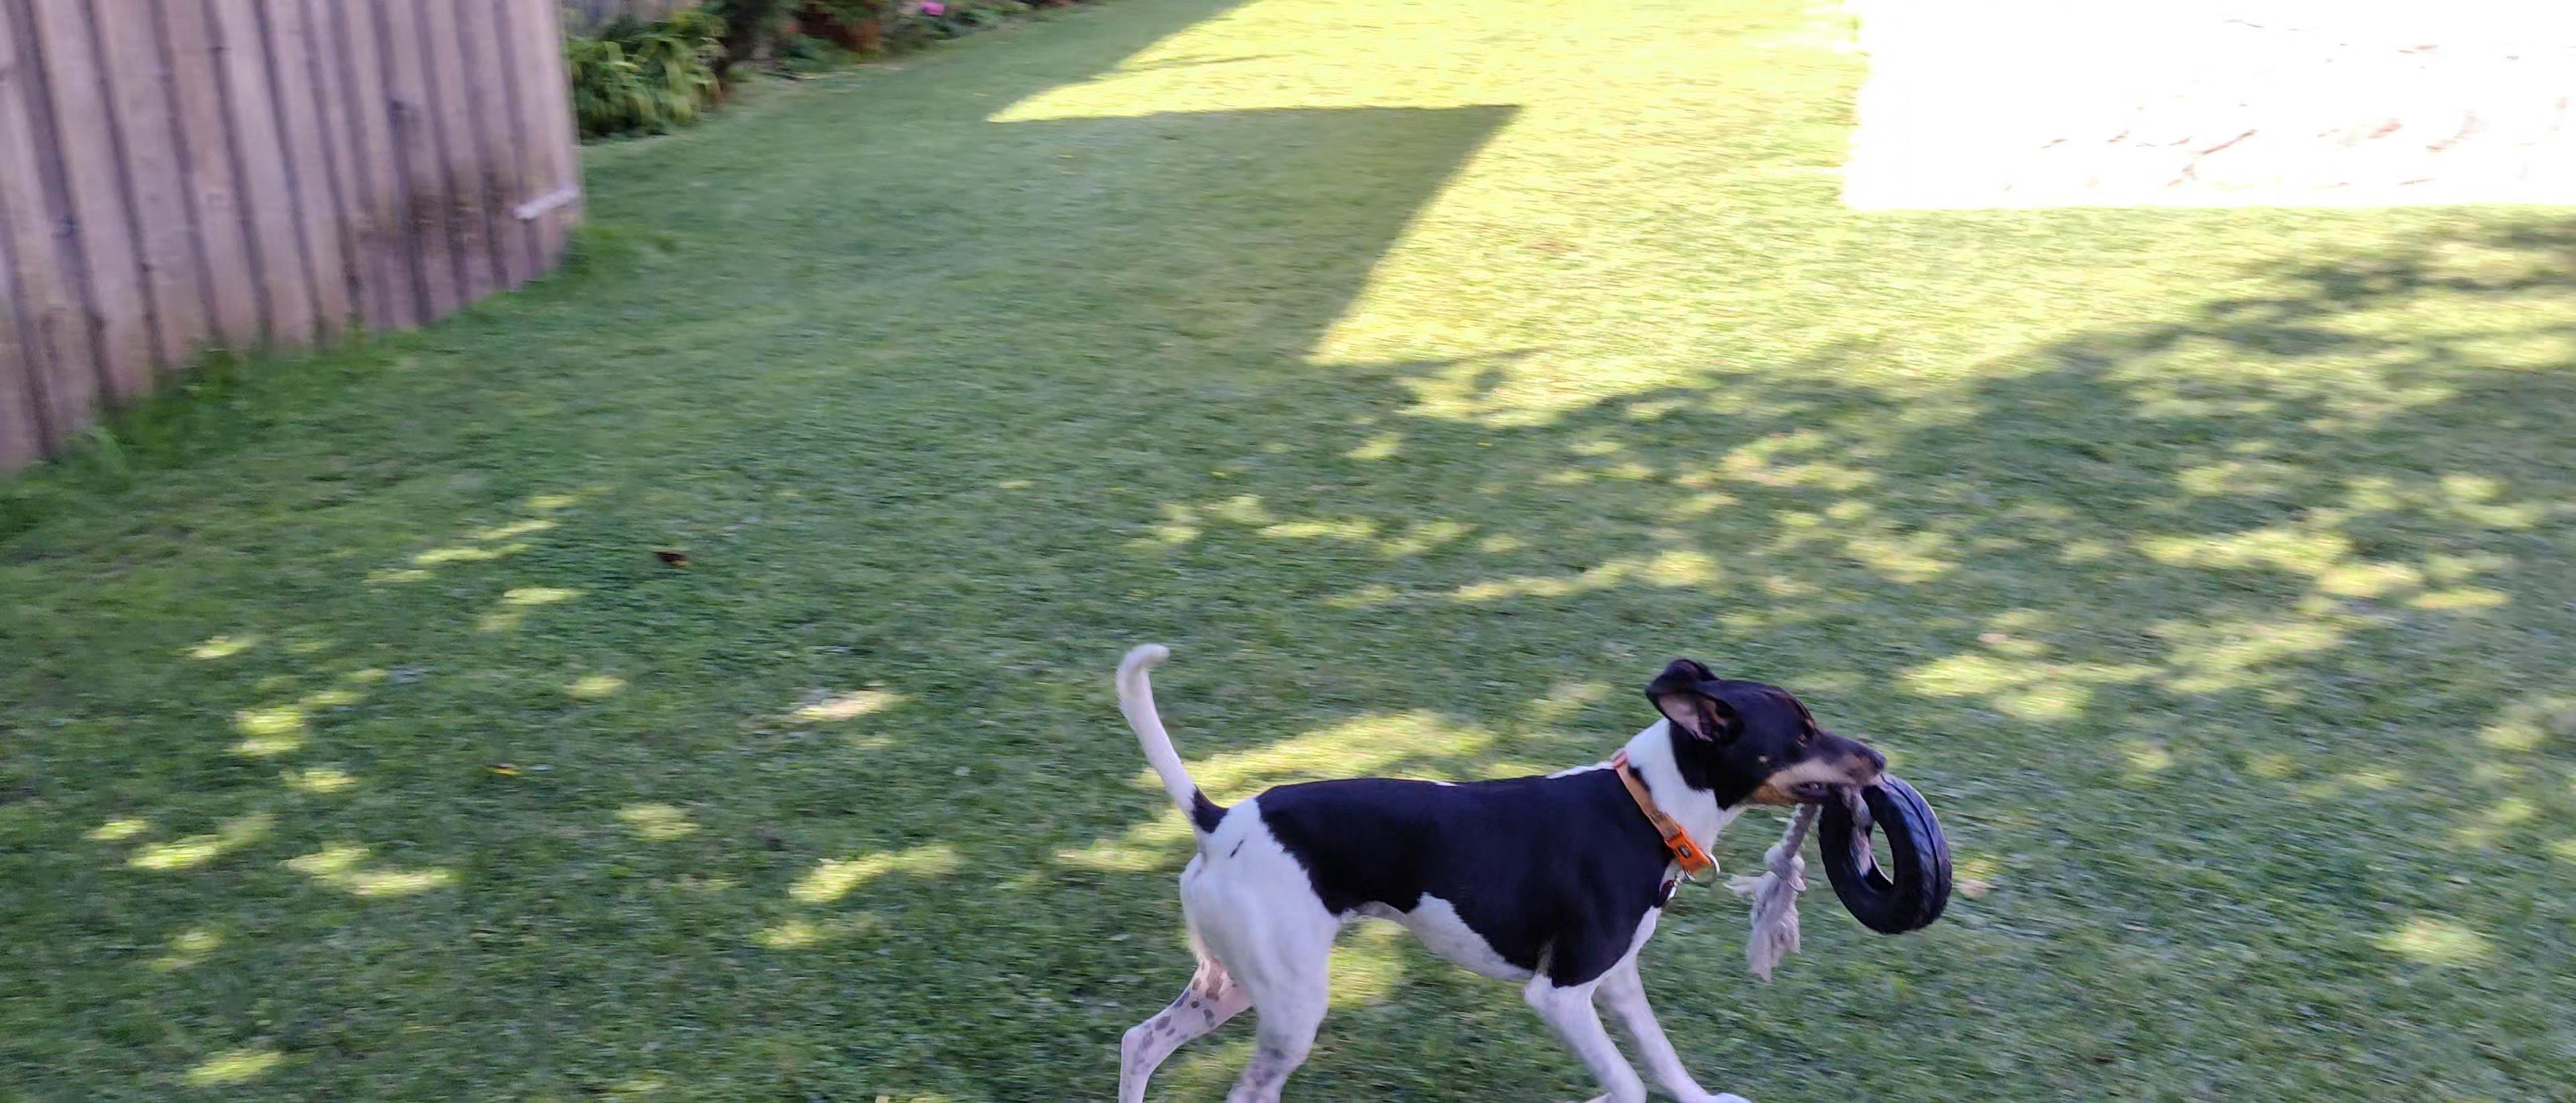Dog: (1106, 643, 1889, 1103)
